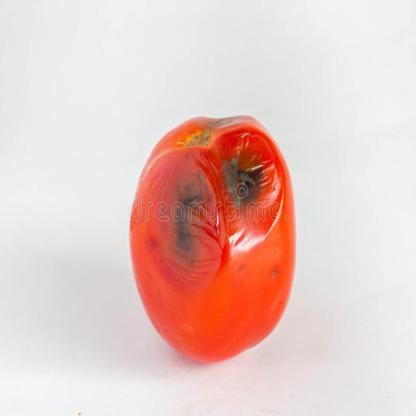tomato_rotten: (124, 109, 298, 369)
